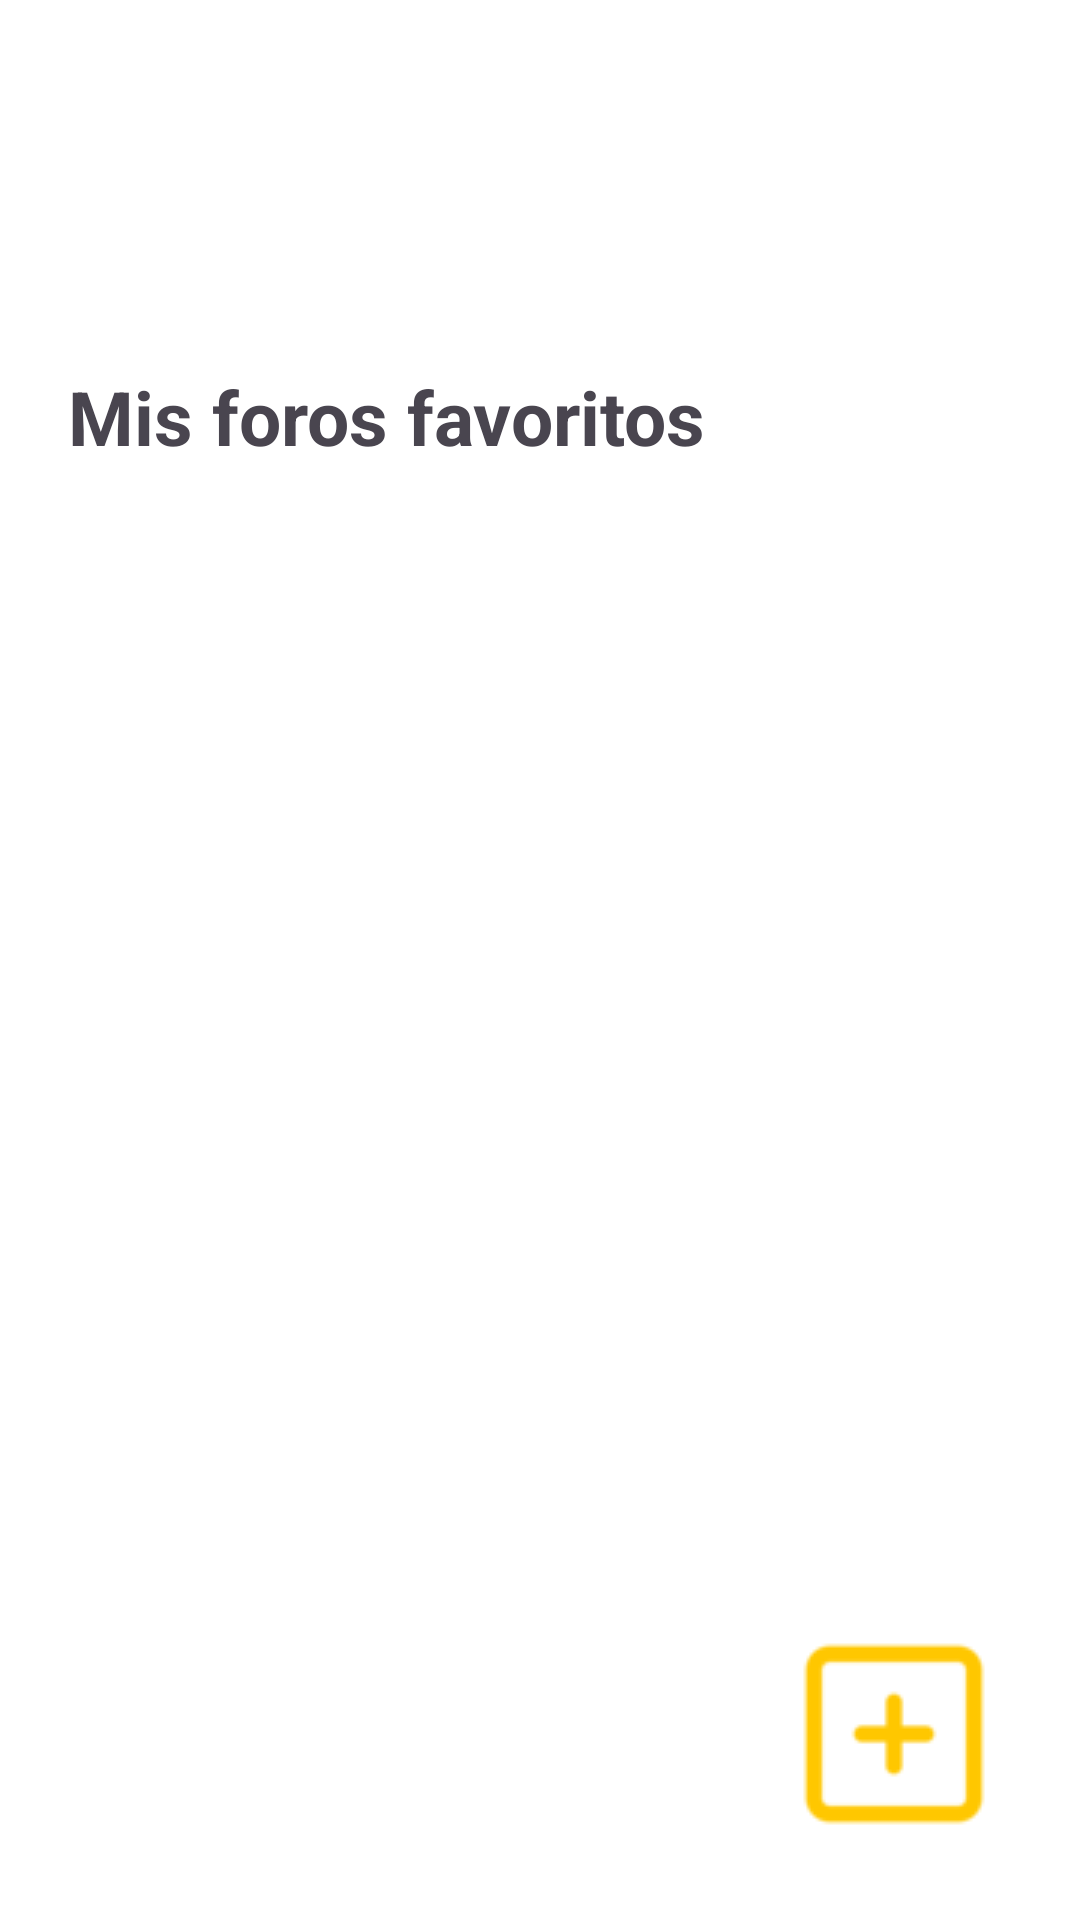

Named icons in this screenshot (1080 x 1920) and their bounding boxes, (x1, y1, x2, y2):
add: (803, 1643, 985, 1825)
